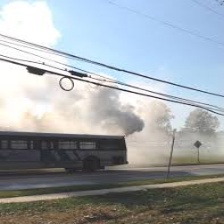smoke: (5, 6, 142, 137)
